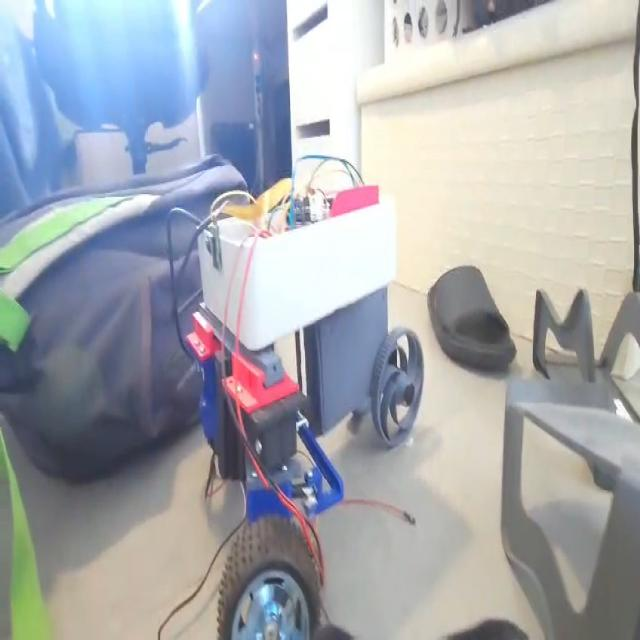Robot: (182, 174, 424, 640)
